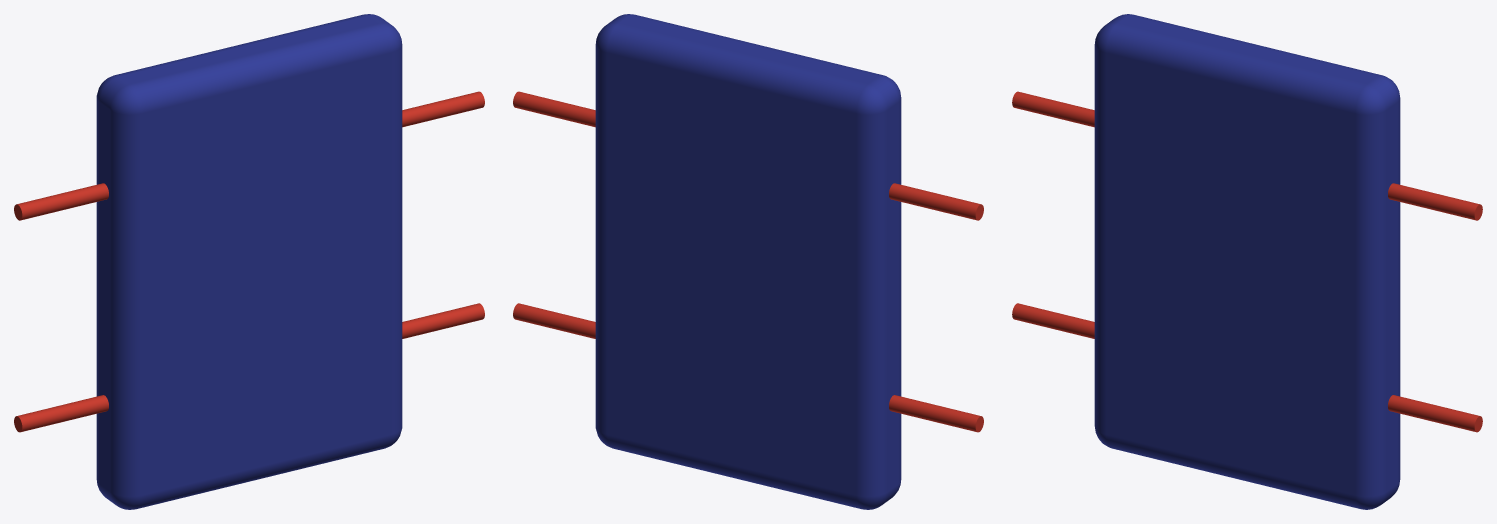
Rendered from body.obj.
3 renders of one model, left to right at view 1: azimuth 30°, elevation 25°; view 2: azimuth 150°, elevation 25°; view 3: azimuth 330°, elevation 25°, orthographic.
Parts seen in each view (by area): view 1: Body1, Body2, Body3; view 2: Body1, Body2, Body3; view 3: Body1, Body3, Body2.
Boxes of the visible parts, <box> form: Body1: <box>96,14,402,509</box>; Body2: <box>14,303,484,432</box>; Body3: <box>14,91,484,220</box>; Body1: <box>595,14,901,509</box>; Body2: <box>513,303,983,432</box>; Body3: <box>513,91,983,220</box>; Body1: <box>1094,14,1400,509</box>; Body3: <box>1012,91,1482,220</box>; Body2: <box>1012,303,1482,432</box>.
Size of the model in its own units: 104 by 91 by 13.
